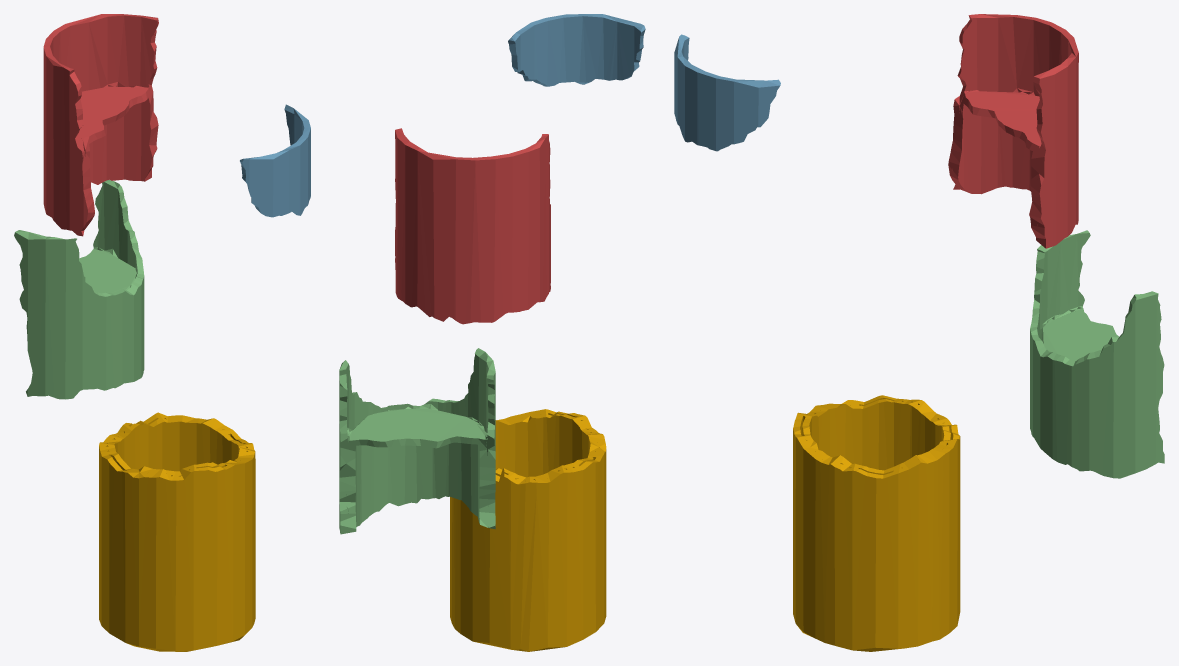
The model's file is fractured_38_4pcs_transformed.glb.
The picture shows the model from 3 angles, left to right: view 1: azimuth 30°, elevation 25°; view 2: azimuth 150°, elevation 25°; view 3: azimuth 270°, elevation 25°; orthographic projection. The views are drawn at different scales.
Parts seen in each view (by area): view 1: piece_0.obj, piece_1.obj, piece_3.obj, piece_2.obj; view 2: piece_0.obj, piece_1.obj, piece_3.obj, piece_2.obj; view 3: piece_0.obj, piece_3.obj, piece_1.obj, piece_2.obj.
Part boxes in pixels (<box>): piece_0.obj: <box>99,412,255,651</box>; piece_1.obj: <box>43,14,158,236</box>; piece_3.obj: <box>14,180,144,399</box>; piece_2.obj: <box>240,104,310,217</box>; piece_0.obj: <box>450,409,606,651</box>; piece_1.obj: <box>395,128,550,324</box>; piece_3.obj: <box>339,348,495,534</box>; piece_2.obj: <box>508,14,645,86</box>; piece_0.obj: <box>793,395,960,651</box>; piece_3.obj: <box>1030,230,1164,478</box>; piece_1.obj: <box>948,14,1078,248</box>; piece_2.obj: <box>674,34,780,151</box>.
Bounding box in the file's own units: 0.424 × 1.6 × 1.24.
